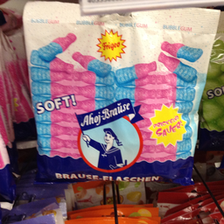candy: (25, 4, 206, 183)
